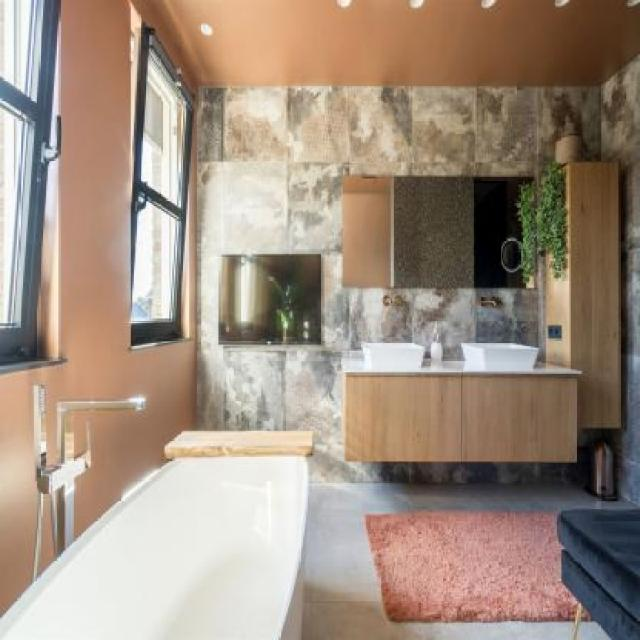floor: (301, 479, 635, 640)
